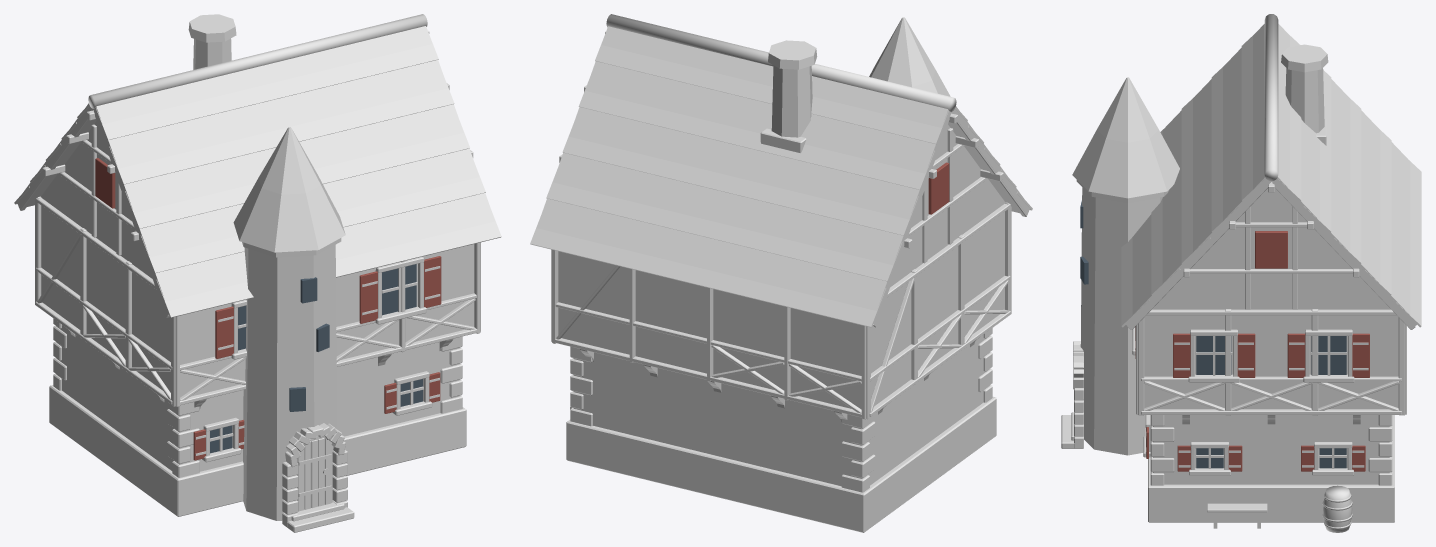
The model's file is col_08_tour_escalier.fbx.
3 renders of one model, left to right at view 1: azimuth 30°, elevation 25°; view 2: azimuth 150°, elevation 25°; view 3: azimuth 270°, elevation 25°, orthographic. The views are drawn at different scales.
Visible parts, largest first — view 1: col_08_tour_escalier_LOD0; view 2: col_08_tour_escalier_LOD0; view 3: col_08_tour_escalier_LOD0.
Part boxes in pixels (x1,y1,x2,y2): col_08_tour_escalier_LOD0: (14,14,501,532); col_08_tour_escalier_LOD0: (530,14,1032,532); col_08_tour_escalier_LOD0: (1061,14,1421,532).
Size of what is drawn, in the model's own units: 8.24 by 9.4 by 7.9.
